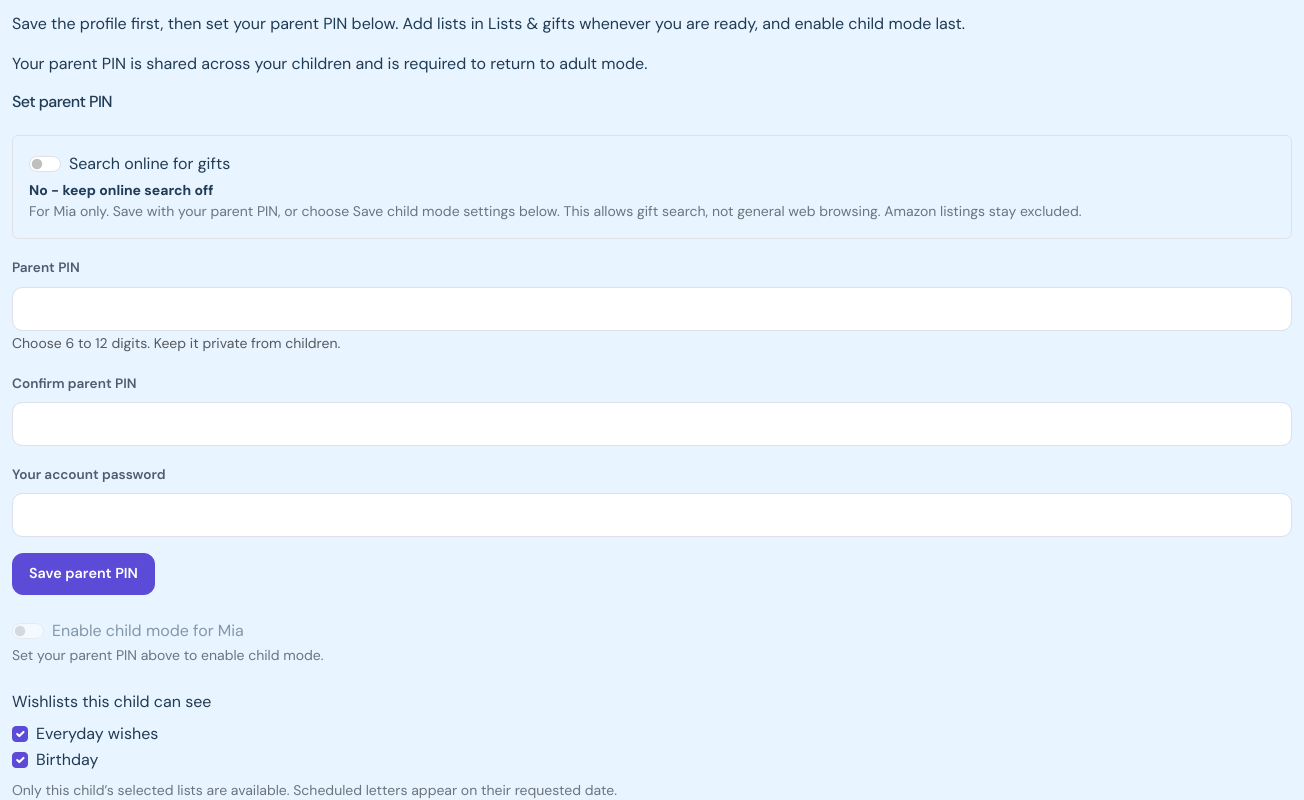
Test: shows search approval next to the PIN and saves it without enabling child mode
The image size is (1304, 800).
Click the switch labelled "Search online for gifts": (45, 164) [29, 156, 61, 172]
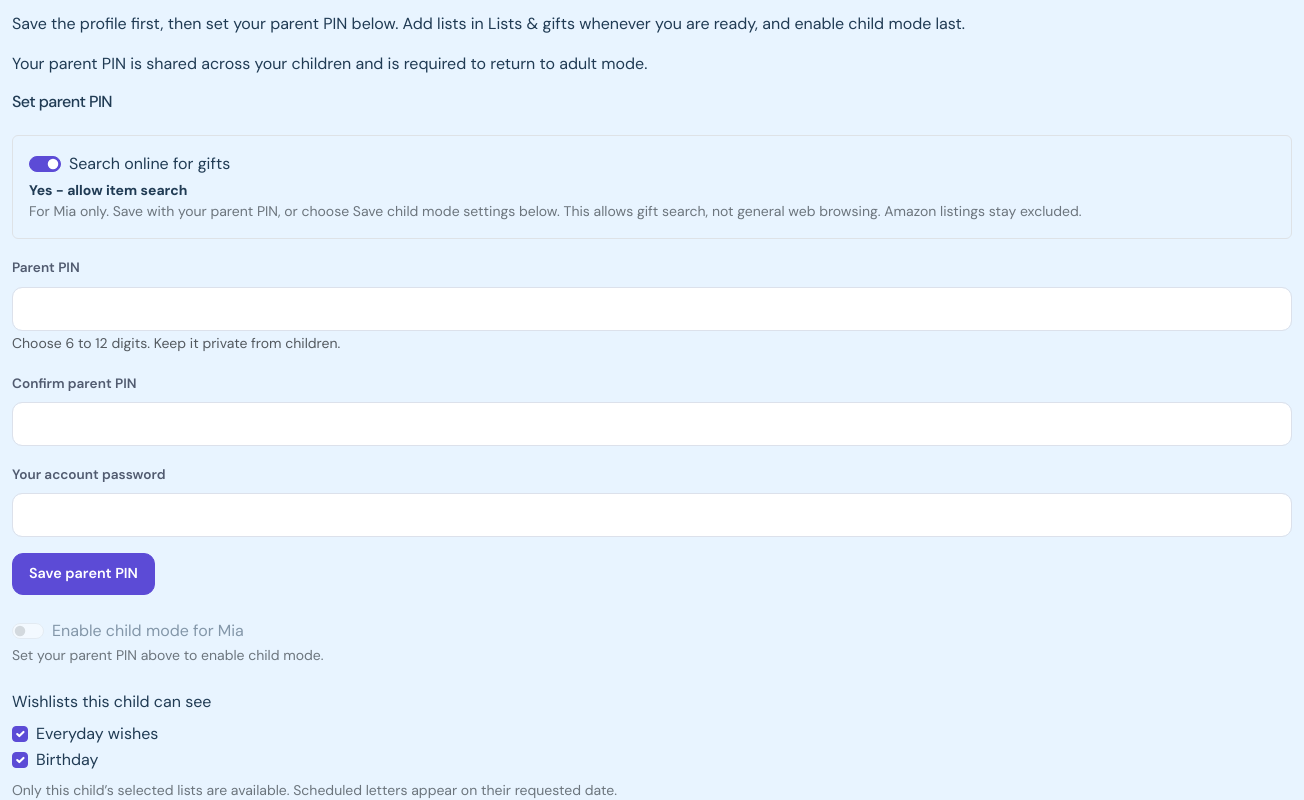
Check: the text "Yes - allow item search" is shown, box [29, 181, 187, 199]
In the password field labelled "Parent PIN": (652, 309) [12, 287, 1292, 331], type "123456"
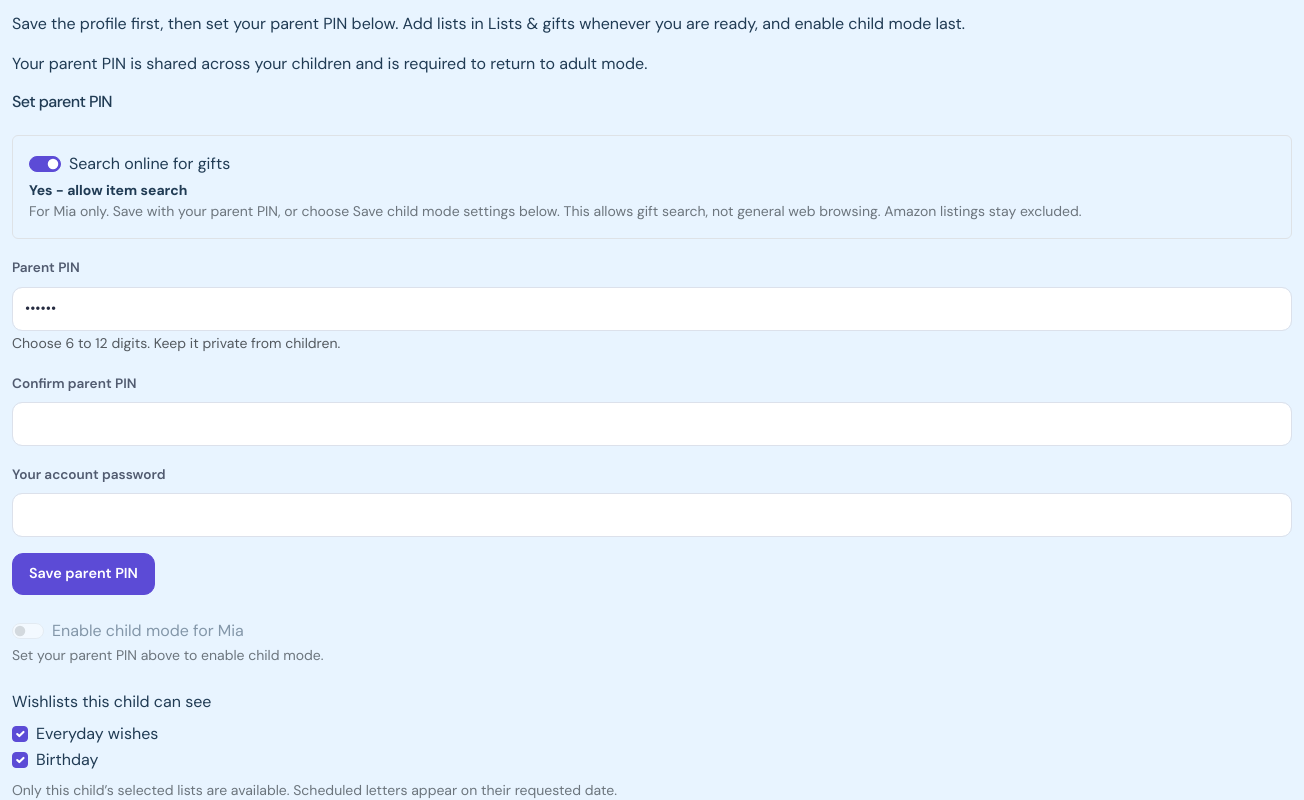
In the password field labelled "Confirm parent PIN": (652, 424) [12, 402, 1292, 446], type "123456"
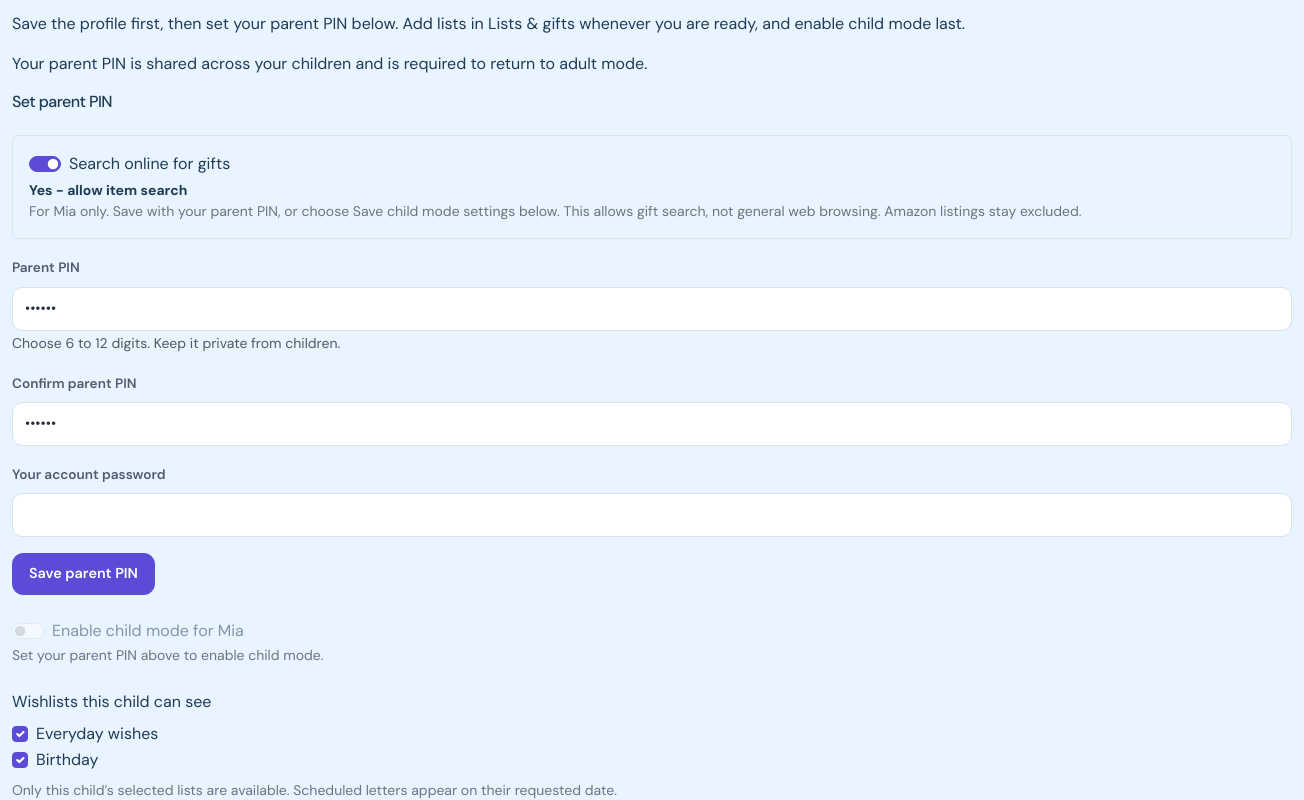
In the password field labelled "Your account password": (652, 515) [12, 493, 1292, 537], type "parent-password"
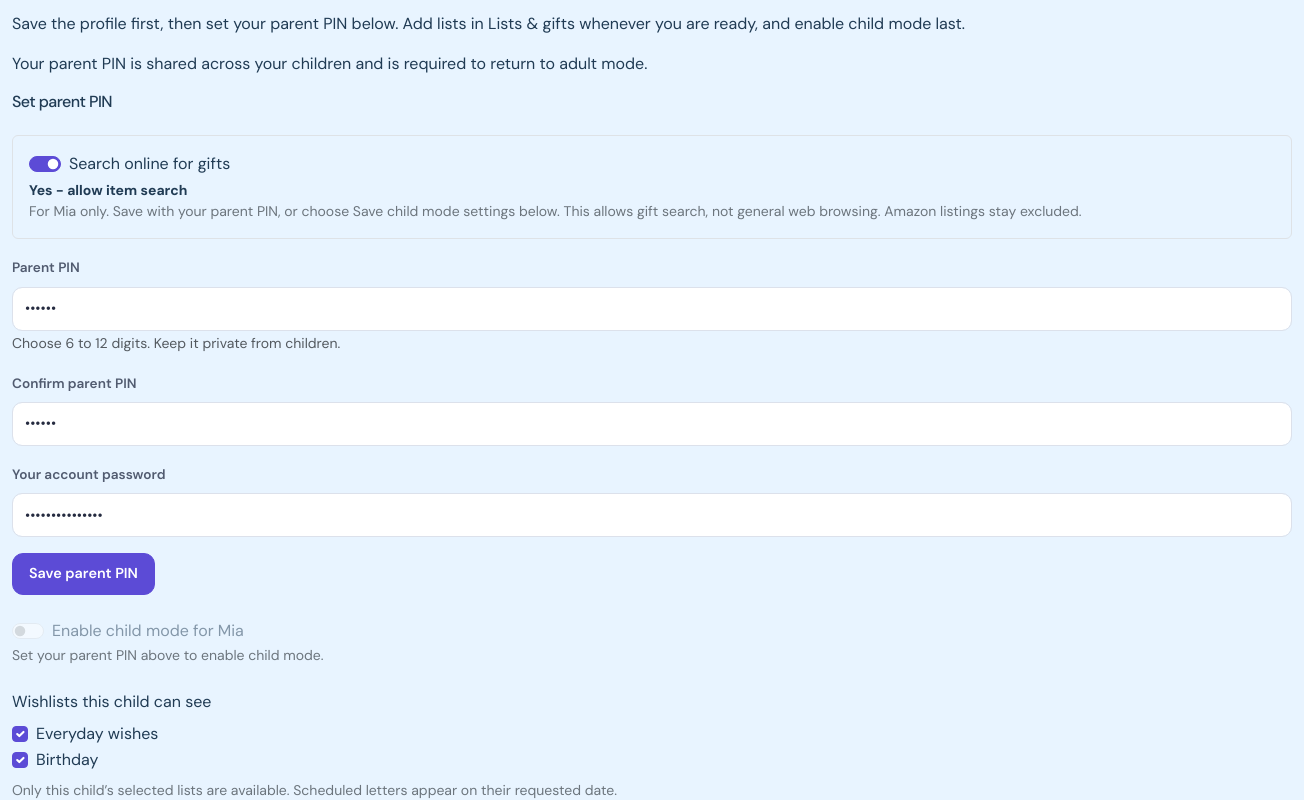
Click the button "Save parent PIN": (84, 574) [12, 553, 155, 595]
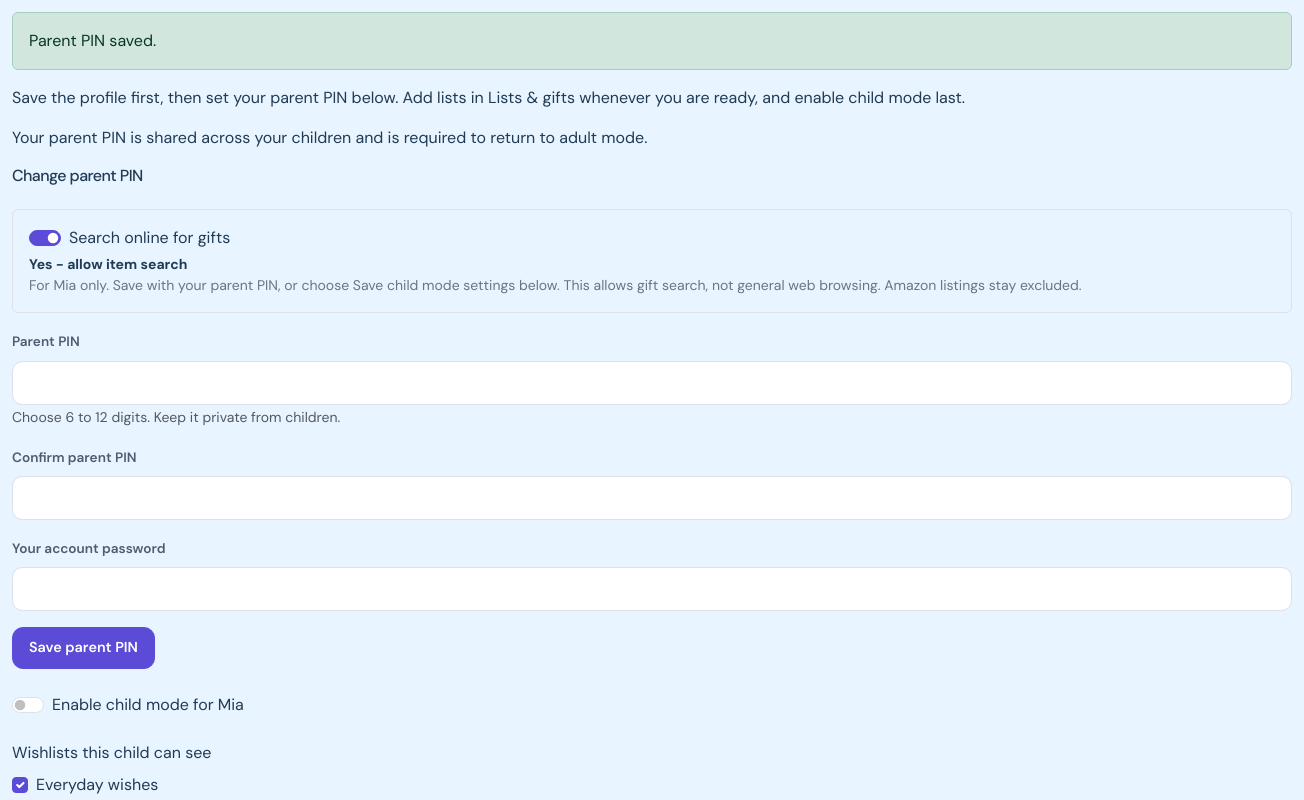
Check: the switch labelled "Enable child mode for Mia" is not checked, box [12, 697, 44, 713]
Check: the text "Parent PIN saved." is shown, box [12, 12, 1292, 70]
